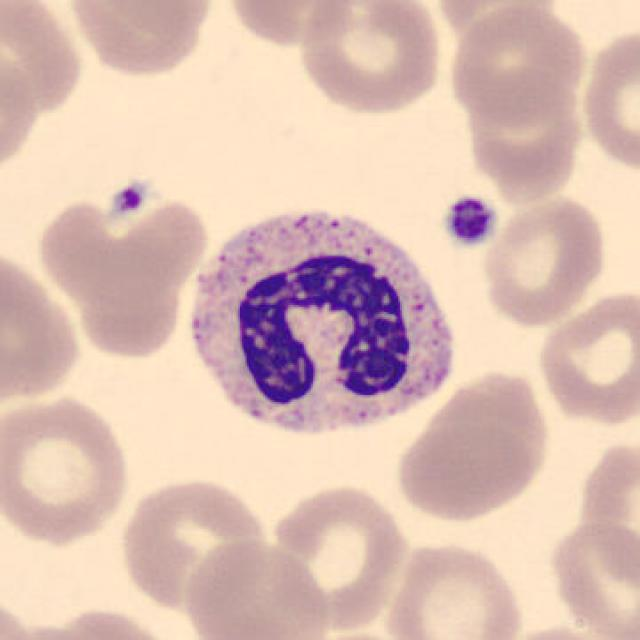Neutrophil: (178, 192, 464, 458)
Platelets: (87, 182, 169, 248), (439, 192, 501, 250), (105, 178, 149, 220)
RBC: (391, 363, 555, 527), (266, 480, 411, 633), (117, 472, 270, 616), (34, 182, 212, 305), (0, 388, 135, 548), (476, 190, 612, 330), (443, 2, 592, 128), (295, 0, 446, 118), (457, 72, 588, 204), (182, 536, 332, 640), (382, 537, 526, 640), (534, 286, 638, 428), (0, 243, 85, 408), (60, 0, 216, 79), (544, 515, 640, 638), (571, 430, 638, 601), (0, 0, 87, 123), (576, 21, 640, 176), (220, 0, 362, 49), (0, 30, 43, 187), (432, 0, 567, 49), (16, 603, 192, 640), (78, 0, 219, 37), (489, 622, 620, 640), (2, 617, 101, 640), (288, 627, 426, 640)
